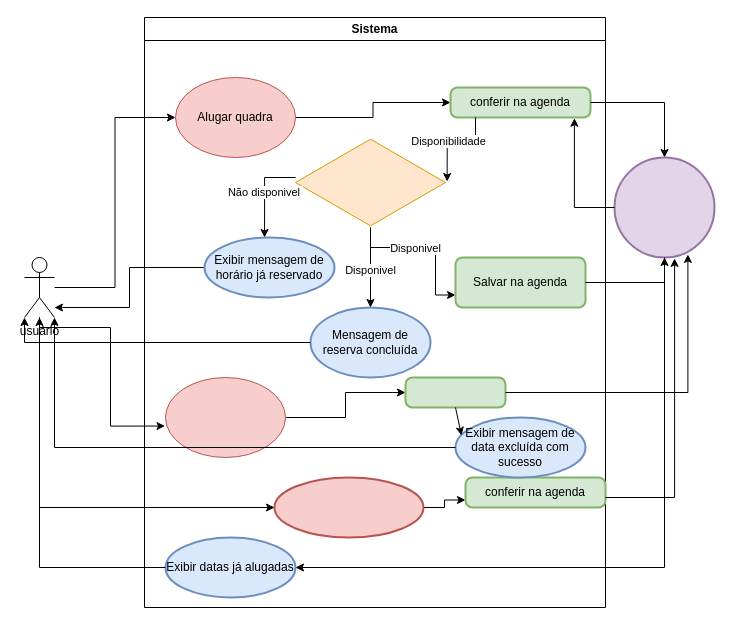
This 733x625 diagram has some shape labels left out. Each missing label, with the centre of its shape:
"Agenda" goes at [664,207].
"Cancelar reserva" goes at [225,417].
"Conferir datas já alugadas" goes at [348,507].
"Conferir disponibilidade" goes at [370,182].
"Excluir reserva na agenda" goes at [455,392].
